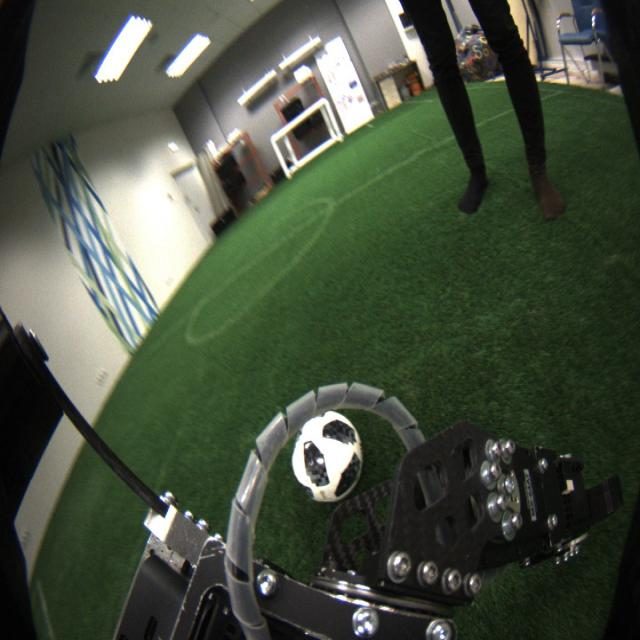ball: (292, 410, 363, 501)
goalpost: (323, 96, 345, 142), (270, 136, 292, 180)
